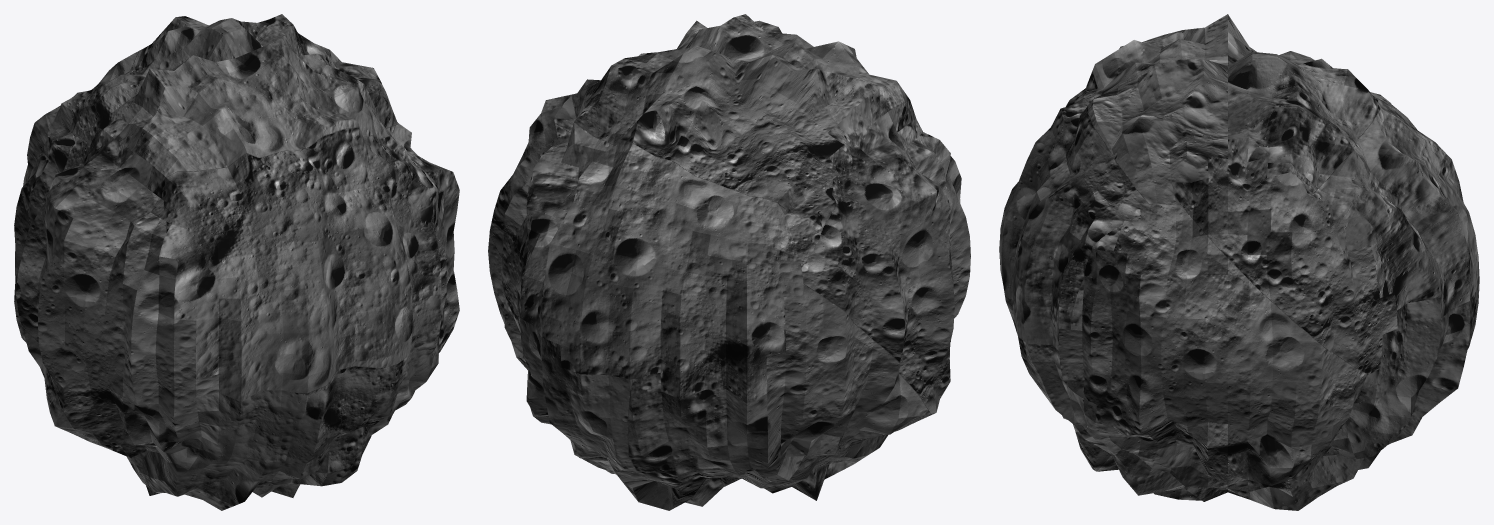
File: asteroid133.obj
3 views of the same model, side by side, from view 1: azimuth 30°, elevation 25°; view 2: azimuth 150°, elevation 25°; view 3: azimuth 270°, elevation 25° (orthographic).
Visible parts, largest first — view 1: Cube_Cube.002; view 2: Cube_Cube.002; view 3: Cube_Cube.002.
Part boxes in pixels (<box>): Cube_Cube.002: <box>14,14,459,510</box>; Cube_Cube.002: <box>488,14,970,510</box>; Cube_Cube.002: <box>999,14,1479,510</box>.
Size of the model in its own units: 1.72 by 1.8 by 1.77.
